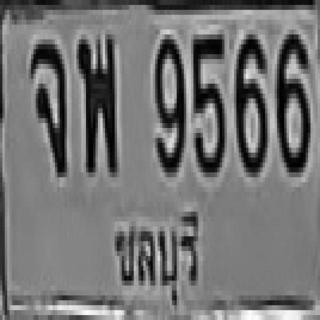A08: (29, 39, 64, 172)
A30: (76, 32, 115, 170)
N05: (191, 30, 224, 172)
N06: (274, 30, 308, 167), (234, 30, 265, 172)
N09: (153, 35, 184, 172)
P13: (111, 205, 201, 311)
